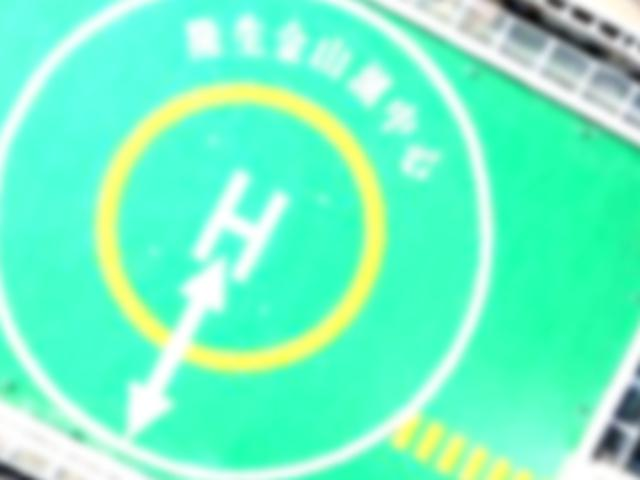Apron: (93, 80, 388, 371)
